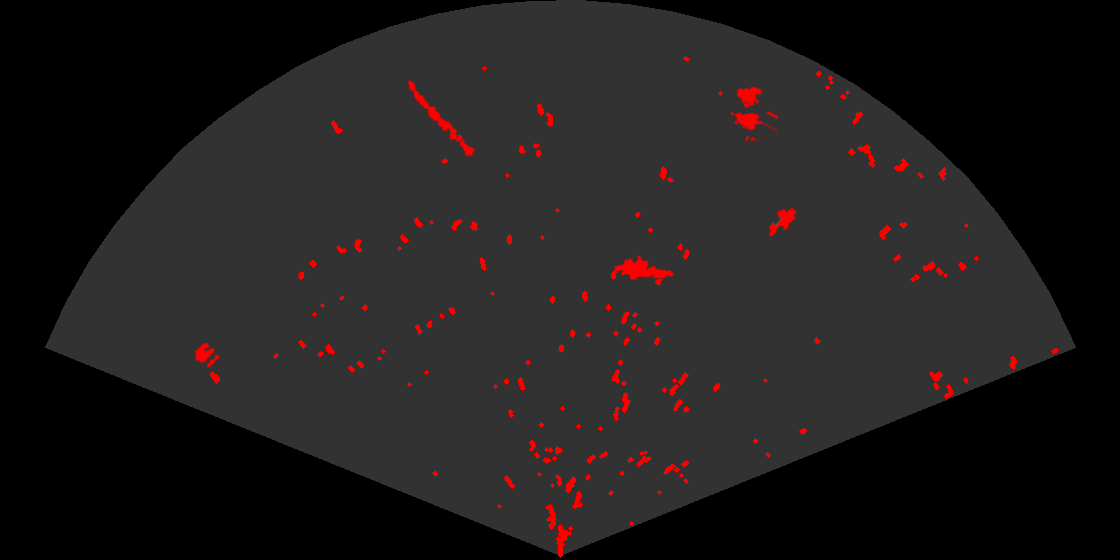AUV: (768, 206, 798, 238)
ball: (193, 341, 221, 369)
cage: (729, 85, 778, 141)
chain: (406, 79, 482, 167)
frogman: (615, 253, 676, 282)
